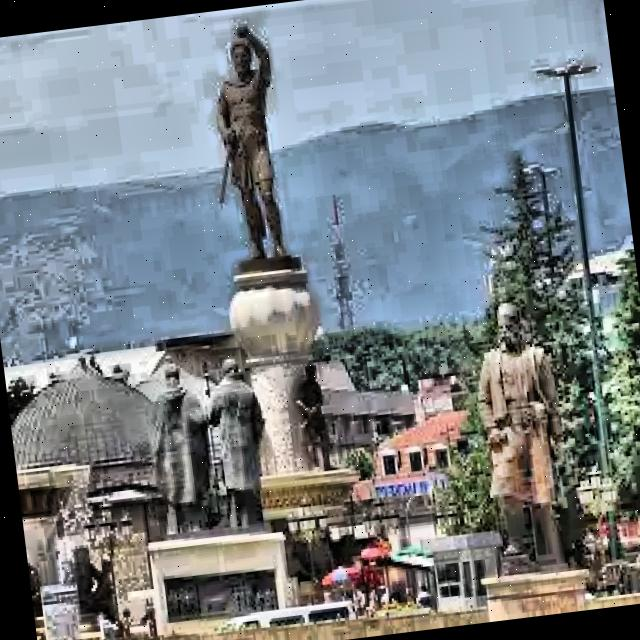Philip II of Macedonia: (181, 2, 363, 640)
